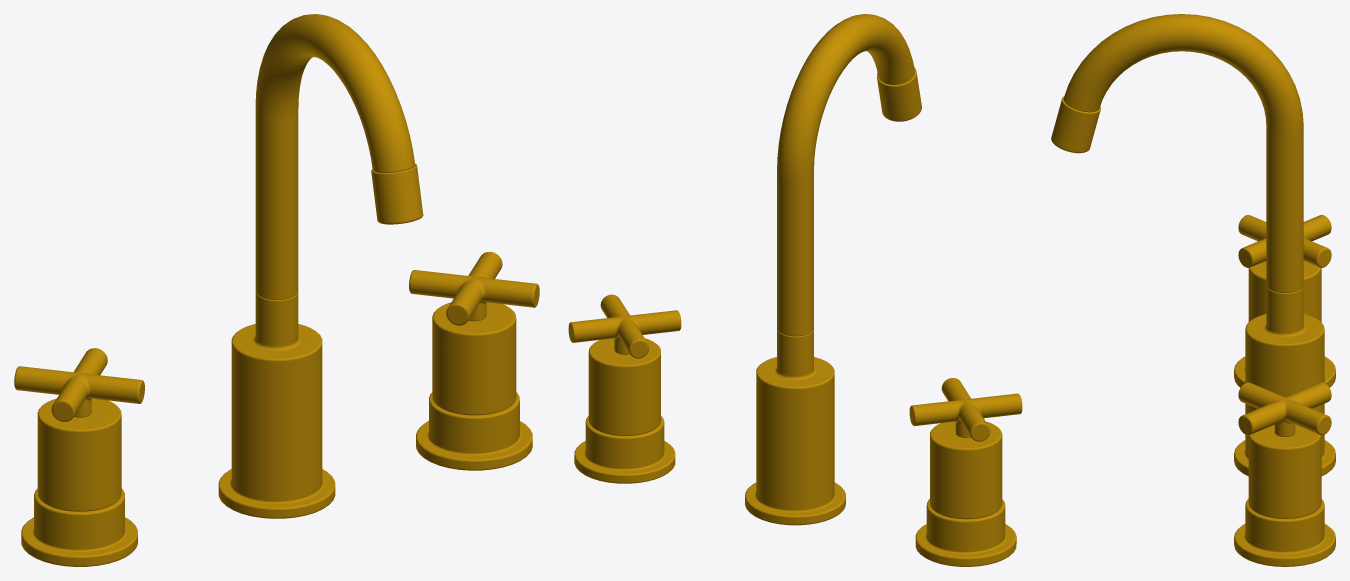
Rendered from faucet.gltf.
3 views of the same model, side by side, from view 1: azimuth 30°, elevation 25°; view 2: azimuth 150°, elevation 25°; view 3: azimuth 270°, elevation 25° (orthographic). The views are drawn at different scales.
Visible parts, largest first — view 1: body_mesh, base_001_mesh, base_002_mesh, base_003_mesh, faucet_002_mesh, faucet_001_mesh, neck_mesh; view 2: body_mesh, base_001_mesh, base_003_mesh, base_002_mesh, faucet_002_mesh, faucet_001_mesh, neck_mesh; view 3: body_mesh, base_003_mesh, base_001_mesh, faucet_002_mesh, base_002_mesh, faucet_001_mesh, neck_mesh.
Part boxes in pixels (x1=…): body_mesh: x1=255, y1=14, x2=415, y2=299; base_001_mesh: x1=218, y1=292, x2=335, y2=518; base_002_mesh: x1=21, y1=398, x2=137, y2=566; base_003_mesh: x1=416, y1=302, x2=532, y2=470; faucet_002_mesh: x1=409, y1=251, x2=539, y2=325; faucet_001_mesh: x1=14, y1=348, x2=144, y2=421; neck_mesh: x1=371, y1=163, x2=423, y2=224; body_mesh: x1=777, y1=14, x2=914, y2=336; base_001_mesh: x1=745, y1=329, x2=845, y2=525; base_003_mesh: x1=574, y1=338, x2=675, y2=483; base_002_mesh: x1=915, y1=421, x2=1016, y2=566; faucet_002_mesh: x1=568, y1=294, x2=681, y2=358; faucet_001_mesh: x1=909, y1=378, x2=1022, y2=441; neck_mesh: x1=877, y1=67, x2=921, y2=121; body_mesh: x1=1063, y1=14, x2=1303, y2=292; base_003_mesh: x1=1234, y1=425, x2=1335, y2=566; base_001_mesh: x1=1234, y1=286, x2=1335, y2=476; faucet_002_mesh: x1=1238, y1=382, x2=1331, y2=436; base_002_mesh: x1=1234, y1=261, x2=1335, y2=387; faucet_001_mesh: x1=1238, y1=215, x2=1331, y2=267; neck_mesh: x1=1051, y1=96, x2=1100, y2=153.
Size of the model in its own units: 0.2034 by 0.2012 by 0.1164.
1 material, 1 textured.
